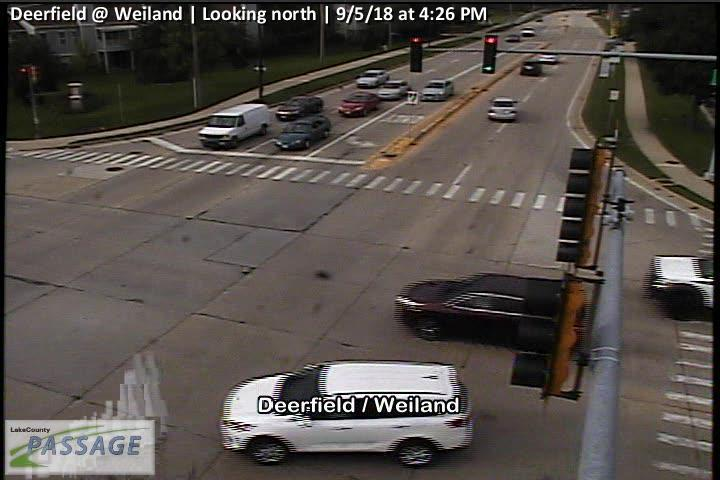SUV: (218, 359, 474, 468), (394, 273, 591, 355), (198, 103, 270, 149), (487, 95, 518, 121), (519, 58, 541, 77)
Sedan: (274, 115, 331, 151), (275, 96, 323, 122), (337, 91, 378, 117), (420, 79, 454, 102), (376, 79, 408, 101), (355, 69, 390, 89), (540, 52, 557, 63), (520, 27, 536, 36), (504, 34, 521, 42)
